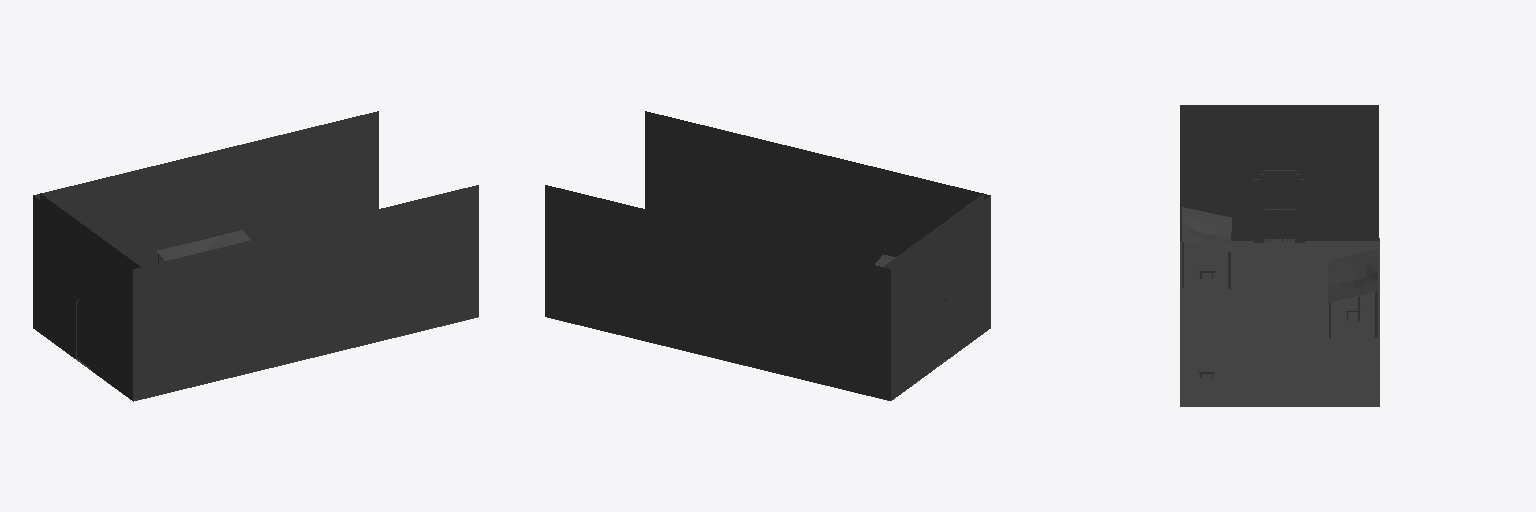
File: castle_street.obj
3 renders of one model, left to right at view 1: azimuth 30°, elevation 25°; view 2: azimuth 150°, elevation 25°; view 3: azimuth 270°, elevation 25°, orthographic.
Parts seen in each view (by area): view 1: Plane.004, Plane.005, Plane.006, Plane.008, Plane.009, Plane.003; view 2: Plane.005, Plane.004, Plane.006, Plane.009, Plane.003; view 3: Plane.003, Plane, Plane.002, Plane.001, Plane.008, Plane.007, Plane.009, Plane.006, Cube.034.
Boxes of the visible parts, x1,y1,x2,y2 form: Plane.004: [133, 185, 478, 400]; Plane.005: [34, 111, 378, 266]; Plane.006: [33, 195, 132, 400]; Plane.008: [157, 230, 250, 260]; Plane.009: [77, 299, 90, 368]; Plane.003: [40, 193, 139, 268]; Plane.005: [545, 185, 890, 400]; Plane.004: [645, 111, 989, 264]; Plane.006: [891, 195, 990, 400]; Plane.009: [933, 299, 947, 368]; Plane.003: [884, 193, 983, 268]; Plane.003: [1180, 108, 1378, 240]; Plane: [1180, 238, 1379, 406]; Plane.002: [1254, 239, 1304, 406]; Plane.001: [1246, 241, 1312, 406]; Plane.008: [1327, 249, 1377, 302]; Plane.007: [1182, 207, 1231, 252]; Plane.009: [1264, 180, 1294, 236]; Plane.006: [1180, 105, 1378, 107]; Cube.034: [1199, 340, 1214, 373].
Bounding box in the file's own units: 79.84 × 29.42 × 40.16.